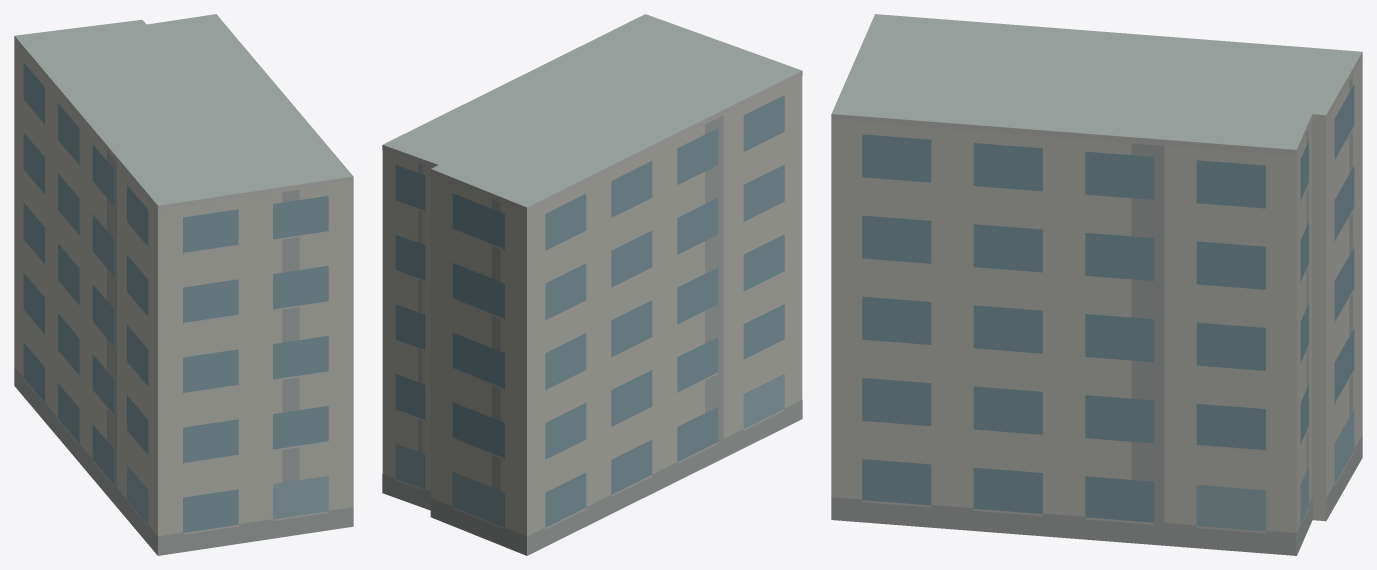
Rendered from survey-upis-32582920.glb.
The picture shows the model from 3 angles, left to right: view 1: azimuth 30°, elevation 25°; view 2: azimuth 150°, elevation 25°; view 3: azimuth 270°, elevation 25°; orthographic projection. The views are drawn at different scales.
Parts seen in each view (by area): view 1: survey-upis-32582920.tmp; view 2: survey-upis-32582920.tmp; view 3: survey-upis-32582920.tmp.
Part boxes in pixels (box(x1,y1,x2,y2)): survey-upis-32582920.tmp: box(14, 14, 353, 555); survey-upis-32582920.tmp: box(382, 14, 802, 555); survey-upis-32582920.tmp: box(831, 14, 1362, 555).
Bounding box in the file's own units: 11.5 × 16 × 18.98.
